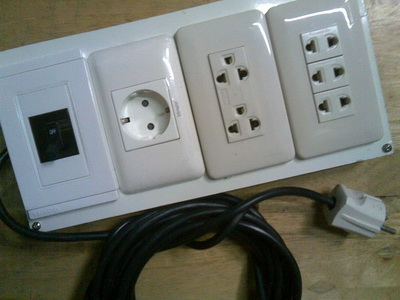Three_eye_plug: (269, 4, 384, 152), (181, 15, 289, 171)
